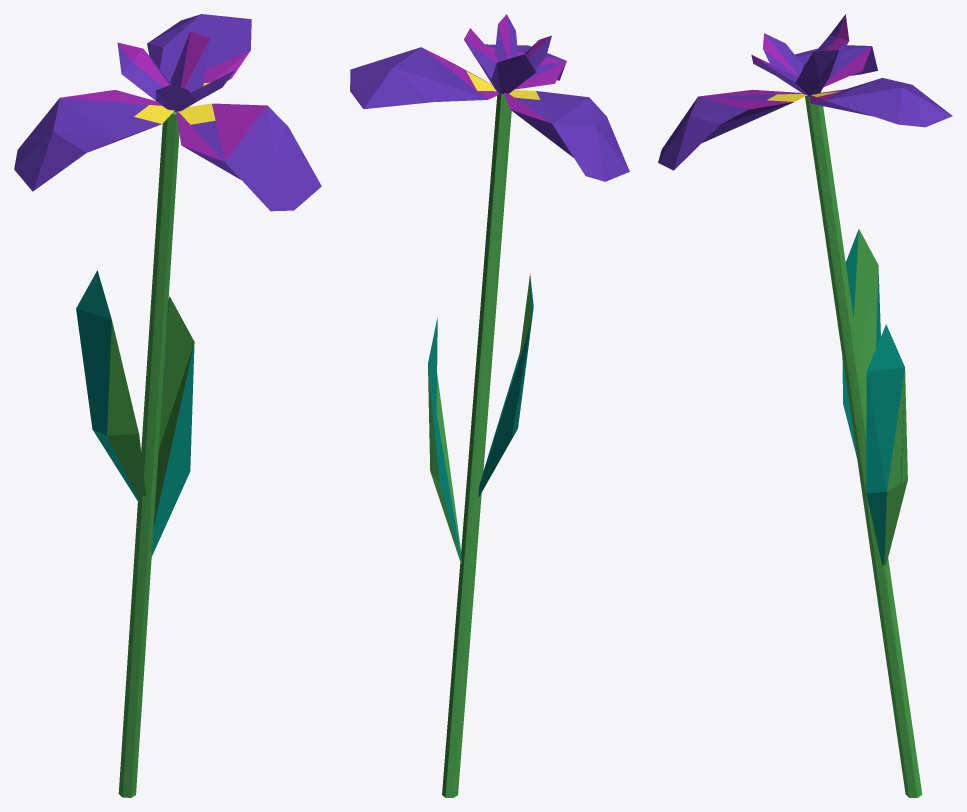
File: iris.glb
The picture shows the model from 3 angles, left to right: view 1: azimuth 30°, elevation 25°; view 2: azimuth 150°, elevation 25°; view 3: azimuth 270°, elevation 25°; orthographic projection. The views are drawn at different scales.
Parts seen in each view (by area): view 1: group1709494082, group906758891, group1873586866, group1104028335, group1170245899, group94181720, group1015098877; view 2: group1709494082, group1015098877, group1873586866, group94181720, group1170245899, group1104028335, group906758891; view 3: group1709494082, group1170245899, group906758891, group1015098877, group1104028335, group94181720, group1873586866.
Boxes of the visible parts, <box> form: group1709494082: <box>118,111,179,797</box>; group906758891: <box>176,103,321,211</box>; group1873586866: <box>14,90,174,191</box>; group1104028335: <box>76,270,145,502</box>; group1170245899: <box>151,296,194,556</box>; group94181720: <box>117,31,233,111</box>; group1015098877: <box>147,14,251,85</box>; group1709494082: <box>442,93,511,797</box>; group1015098877: <box>350,47,499,109</box>; group1873586866: <box>504,90,629,181</box>; group94181720: <box>464,14,551,94</box>; group1170245899: <box>428,317,461,564</box>; group1104028335: <box>478,273,533,497</box>; group906758891: <box>485,44,566,89</box>; group1709494082: <box>805,92,922,797</box>; group1170245899: <box>866,324,907,565</box>; group906758891: <box>658,89,807,170</box>; group1015098877: <box>809,78,952,127</box>; group1104028335: <box>842,229,880,457</box>; group94181720: <box>751,14,849,96</box>; group1873586866: <box>795,45,877,86</box>.
Size of the model in its own units: 0.5191 by 1.5 by 0.5276.
